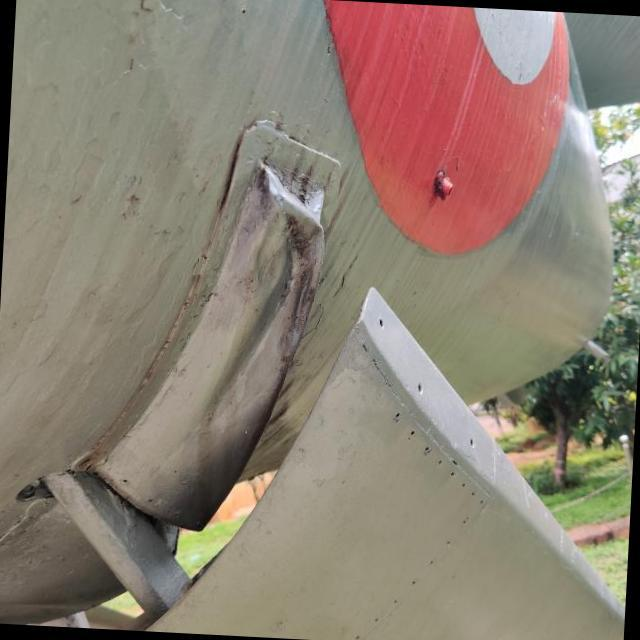Dent: (170, 151, 354, 479)
